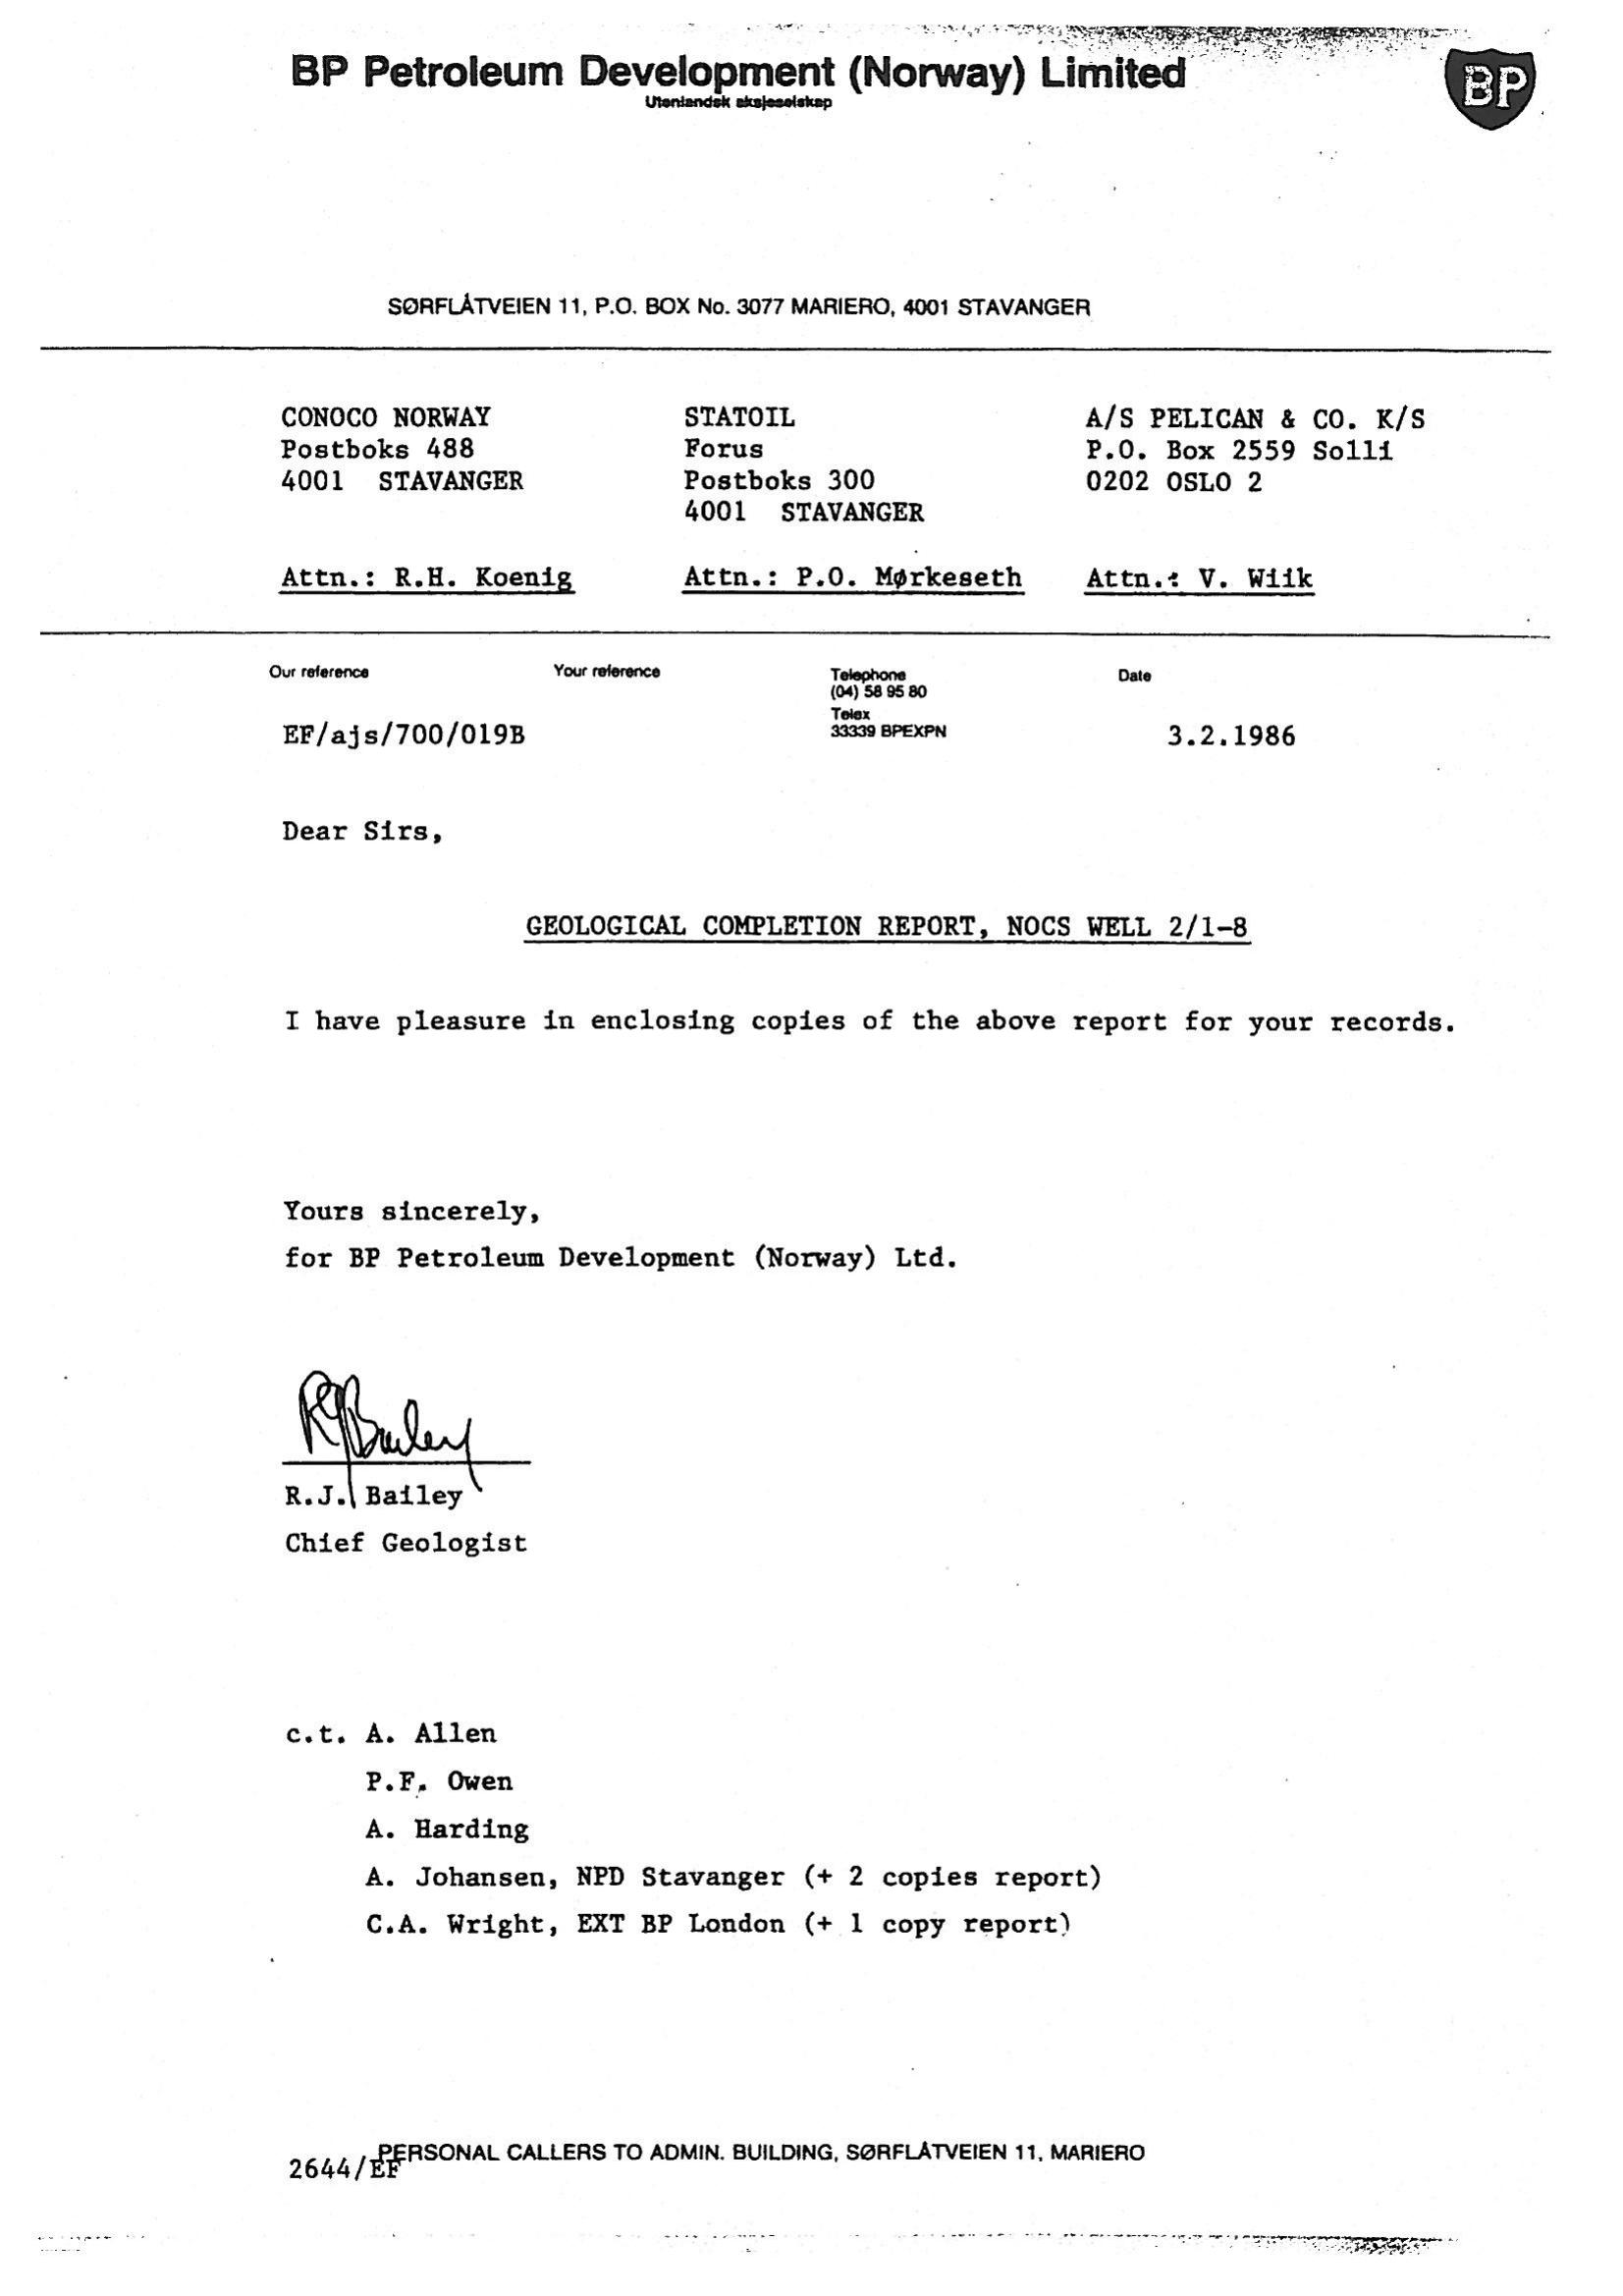text: (260, 898, 1477, 1347), (246, 645, 1447, 896), (242, 379, 1468, 613), (249, 1702, 1140, 1992), (270, 26, 1214, 125), (360, 272, 1115, 329)
undefined: (260, 1367, 560, 1579)
